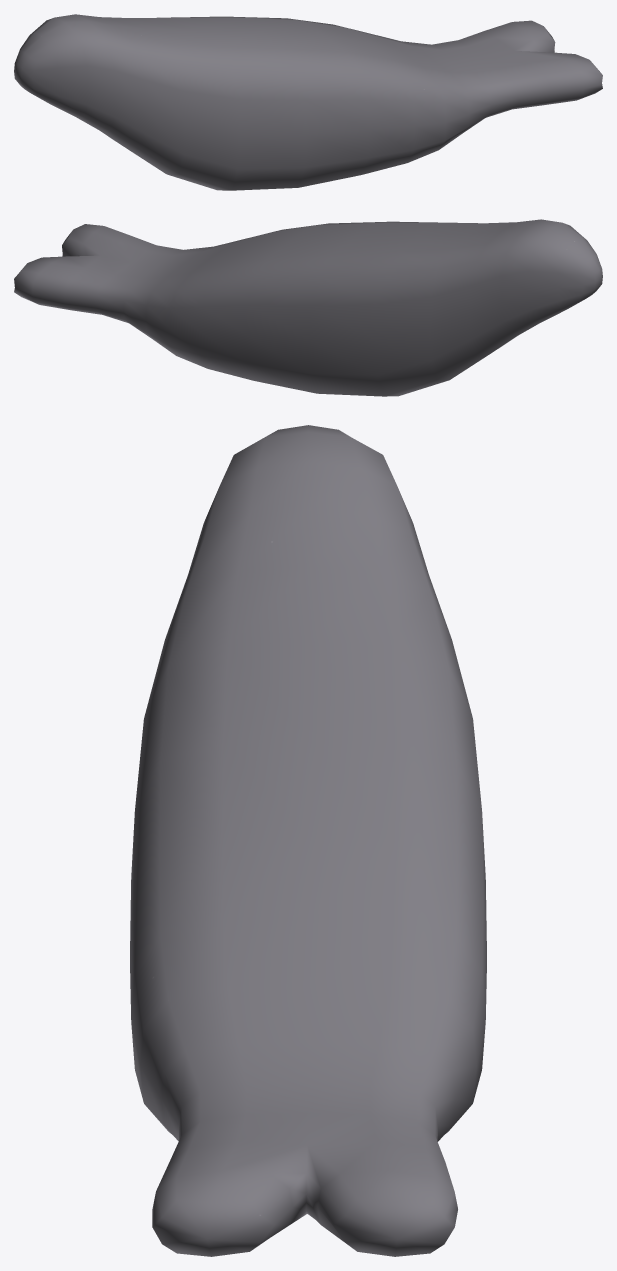
File: Seal Body.fbx
3 renders of one model, top to bottom at view 1: azimuth 30°, elevation 25°; view 2: azimuth 150°, elevation 25°; view 3: azimuth 270°, elevation 25°, orthographic. The views are drawn at different scales.
Visible parts, largest first — view 1: Seal Body; view 2: Seal Body; view 3: Seal Body.
Boxes of the visible parts, bbox=[...] form: Seal Body: bbox=[14, 14, 602, 190]; Seal Body: bbox=[14, 219, 602, 396]; Seal Body: bbox=[130, 425, 486, 1256].
Bounding box in the file's own units: 11.91 × 3.3 × 4.05.
